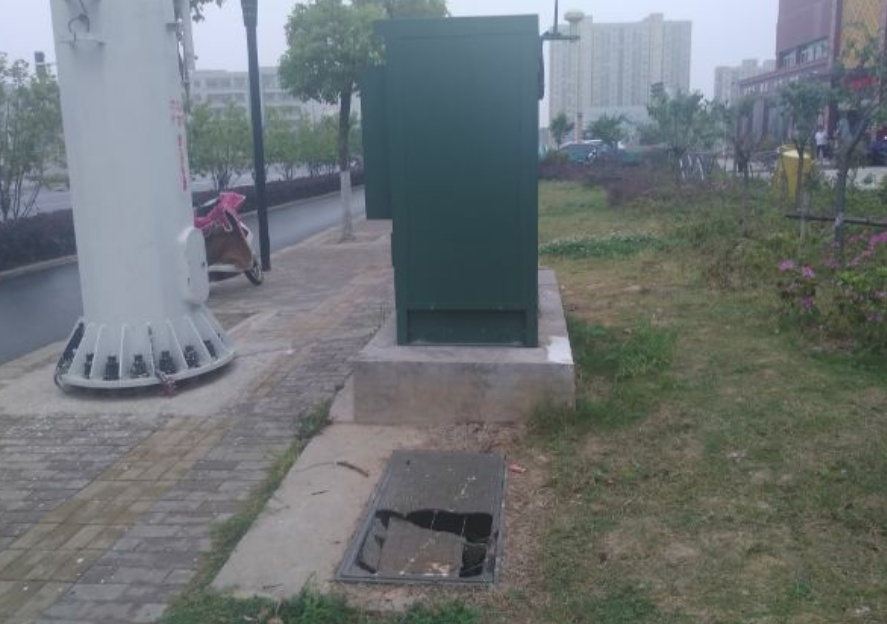broke: (332, 445, 510, 590)
